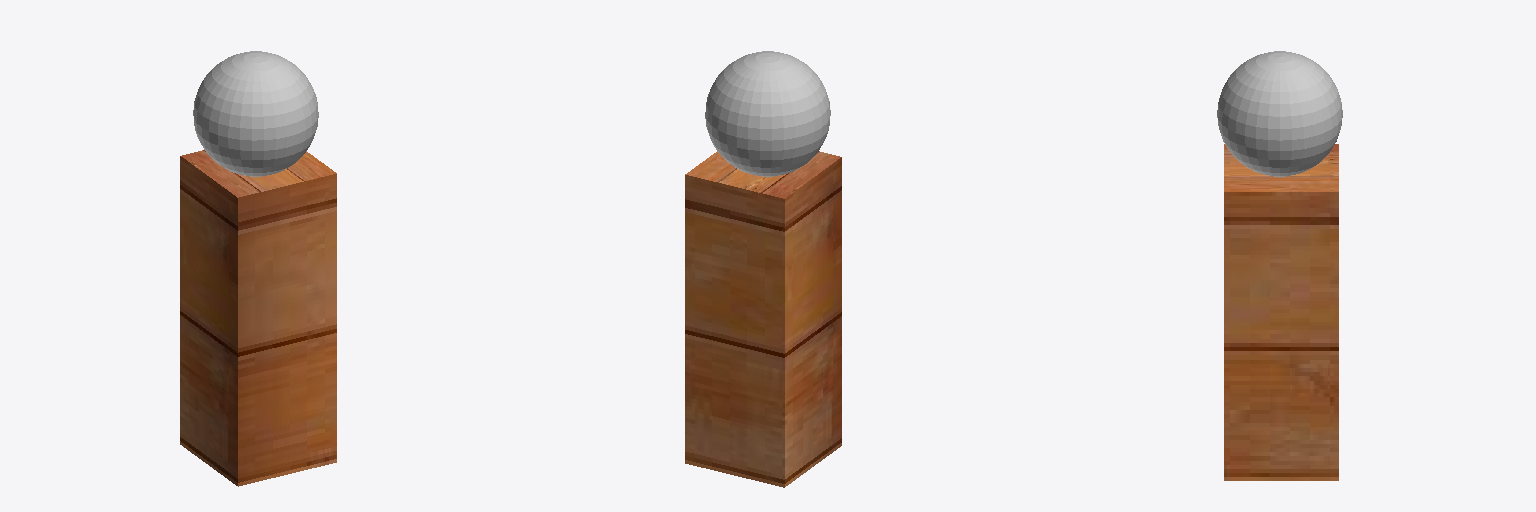
The picture shows the model from 3 angles: view 1: azimuth 30°, elevation 25°; view 2: azimuth 150°, elevation 25°; view 3: azimuth 270°, elevation 25°; orthographic projection.
Visible parts, largest first — view 1: Sphere; view 2: Sphere; view 3: Sphere.
Part boxes in pixels (x1,y1,x2,y2): Sphere: (180,51,336,486); Sphere: (685,51,841,487); Sphere: (1217,51,1342,480).
Size of the model in its own units: 0.5781 by 2.02 by 0.5781.
2 materials, 1 textured.